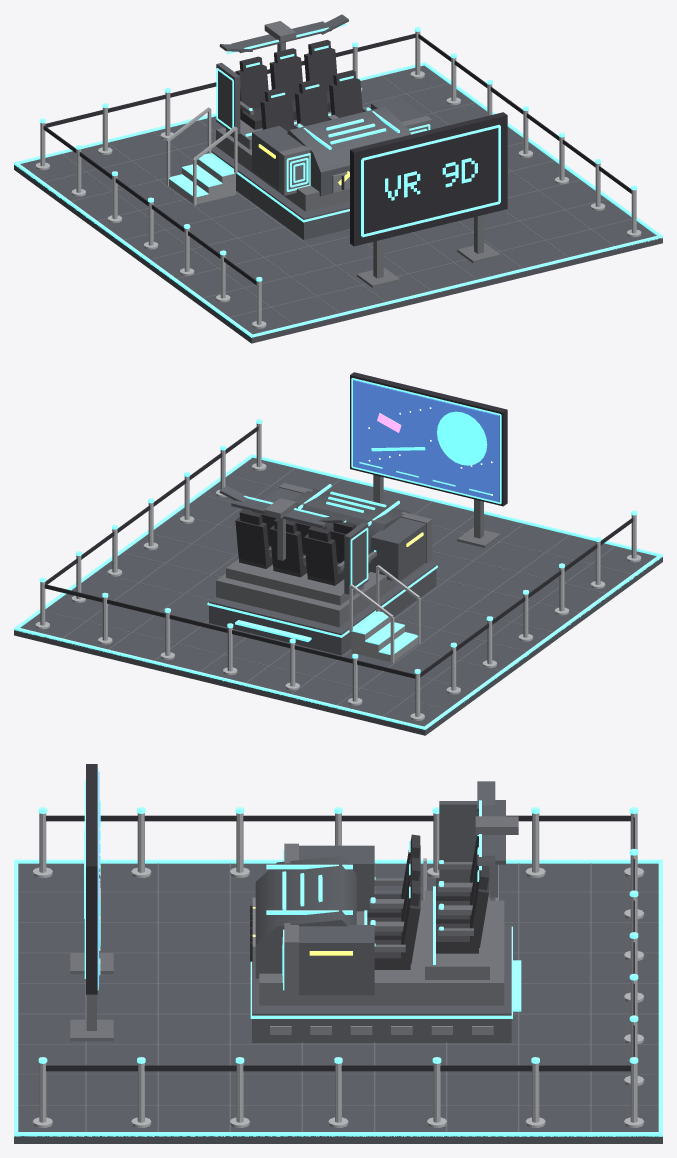
The picture shows the model from 3 angles, top to bottom: view 1: azimuth 30°, elevation 25°; view 2: azimuth 150°, elevation 25°; view 3: azimuth 270°, elevation 25°; orthographic projection. The views are drawn at different scales.
Parts seen in each view (by area): view 1: base, swing0; view 2: base, swing0; view 3: base, swing0.
Part boxes in pixels (x1,y1,x2,y2): base: (14, 27, 662, 343); swing0: (216, 14, 432, 211); base: (14, 372, 662, 735); swing0: (216, 483, 432, 627); base: (14, 764, 662, 1143); swing0: (250, 781, 518, 1005).
Bounding box in the file's own units: 9 × 2.93 × 9.
